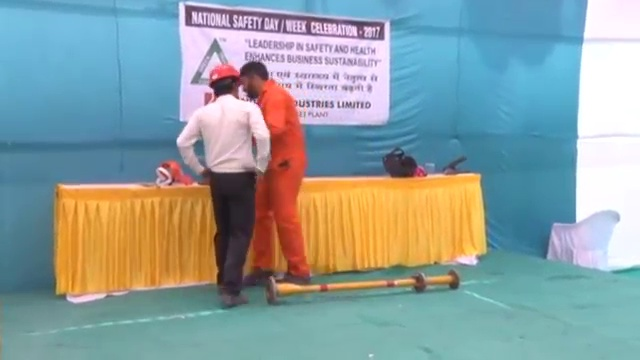helmet: (208, 62, 240, 84)
helmet_off: (239, 59, 269, 102)
helmet_on: (207, 59, 242, 99)
person: (175, 59, 271, 307), (239, 56, 313, 288)
